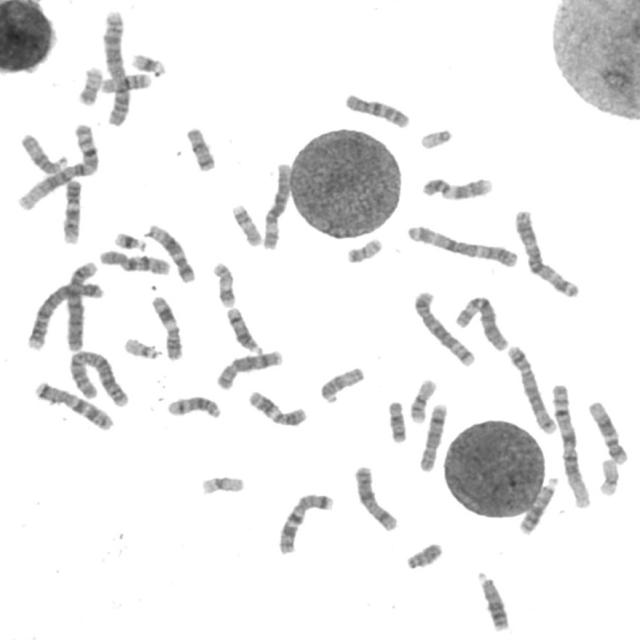A1: (13, 120, 101, 212), (548, 380, 592, 510)
A2: (98, 5, 132, 128), (64, 347, 130, 408)
A3: (509, 204, 582, 298), (402, 220, 521, 269)
B4: (22, 277, 105, 351), (61, 256, 100, 353)
B5: (410, 287, 477, 368), (503, 342, 558, 436)
C10: (340, 89, 411, 130), (95, 246, 172, 276)
C11: (244, 386, 309, 428), (147, 292, 184, 362)
C12: (142, 220, 196, 284), (584, 396, 630, 466)
C6: (450, 292, 510, 352), (258, 157, 292, 250)
C7: (30, 376, 116, 432), (274, 489, 336, 556)
C8: (212, 345, 285, 391), (414, 400, 450, 473)
C9: (417, 172, 495, 202), (58, 175, 83, 246)
D13: (514, 472, 560, 537), (472, 567, 511, 632)
D14: (221, 304, 263, 355), (162, 391, 223, 421)
D15: (16, 129, 68, 175), (316, 363, 366, 405)
E16: (96, 68, 154, 95), (406, 376, 438, 424)
E17: (228, 200, 263, 248), (208, 258, 238, 309)
E18: (181, 123, 218, 173), (384, 396, 408, 444)
F19: (196, 471, 246, 497), (594, 454, 621, 498)
F20: (73, 61, 104, 107), (343, 234, 384, 264)
G21: (128, 49, 168, 77), (109, 227, 148, 252)
G22: (120, 333, 162, 360), (416, 124, 454, 150)
X: (350, 462, 400, 533)
Y: (402, 539, 444, 571)
